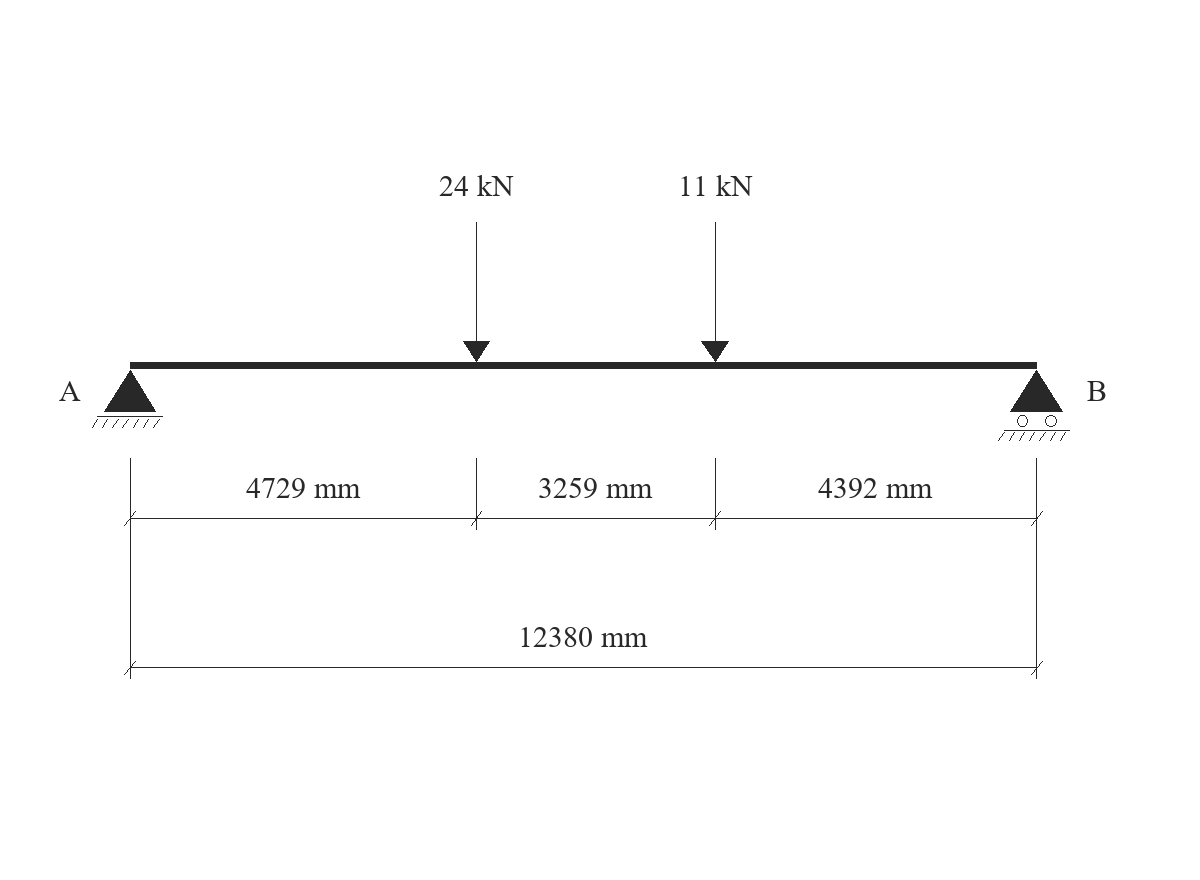pin_support: (92, 370, 163, 428)
point_load: (701, 222, 729, 362), (463, 222, 490, 362)
roller_support: (998, 370, 1070, 441)
